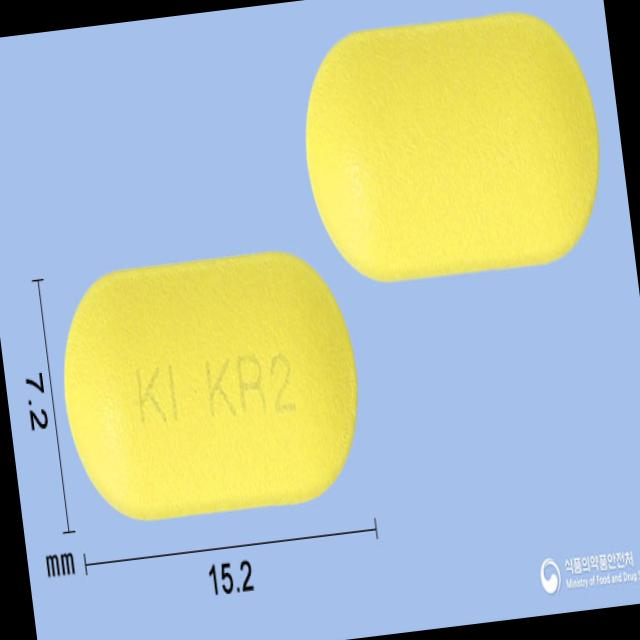Clarithromycin Tab- LGCI: (49, 238, 373, 531)
